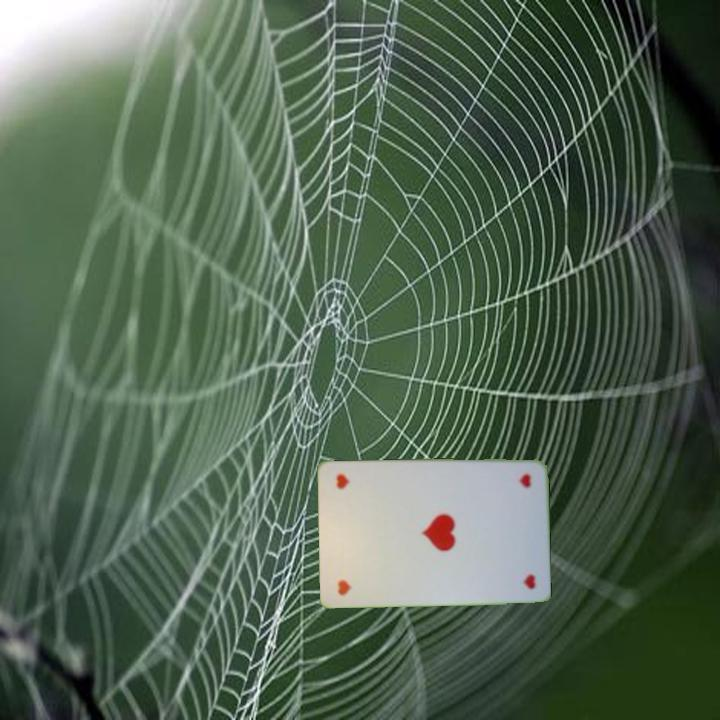h_a.png: (480, 466, 539, 534), (328, 530, 387, 598)
